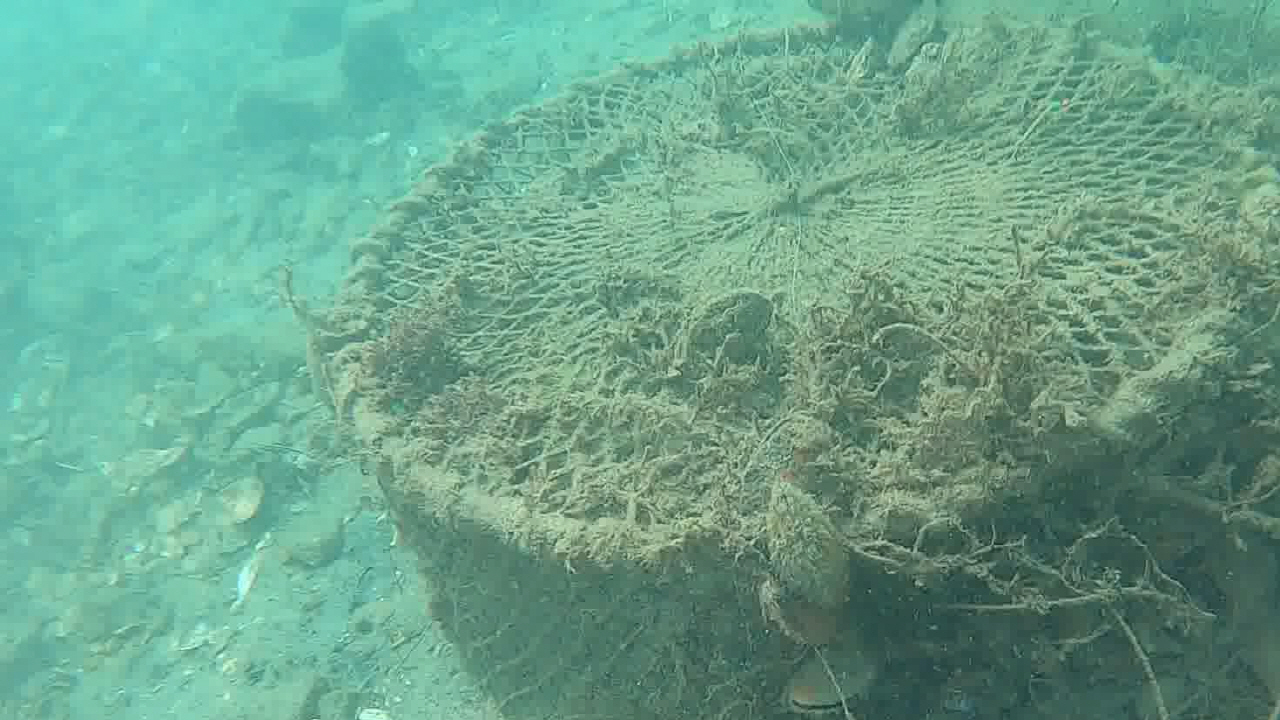circular fish trap: (317, 19, 1280, 720)
